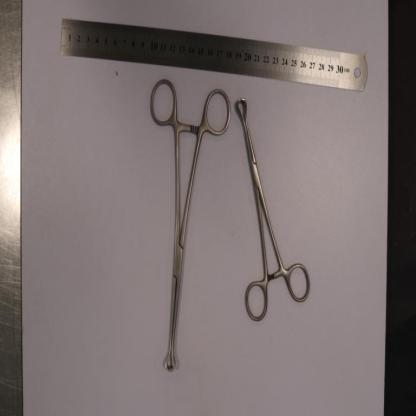8 Babcock Tissue Forceps: (150, 77, 232, 371)
Babcock Tissue Forceps: (236, 99, 311, 320)
